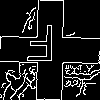F: (25, 25, 56, 71)
